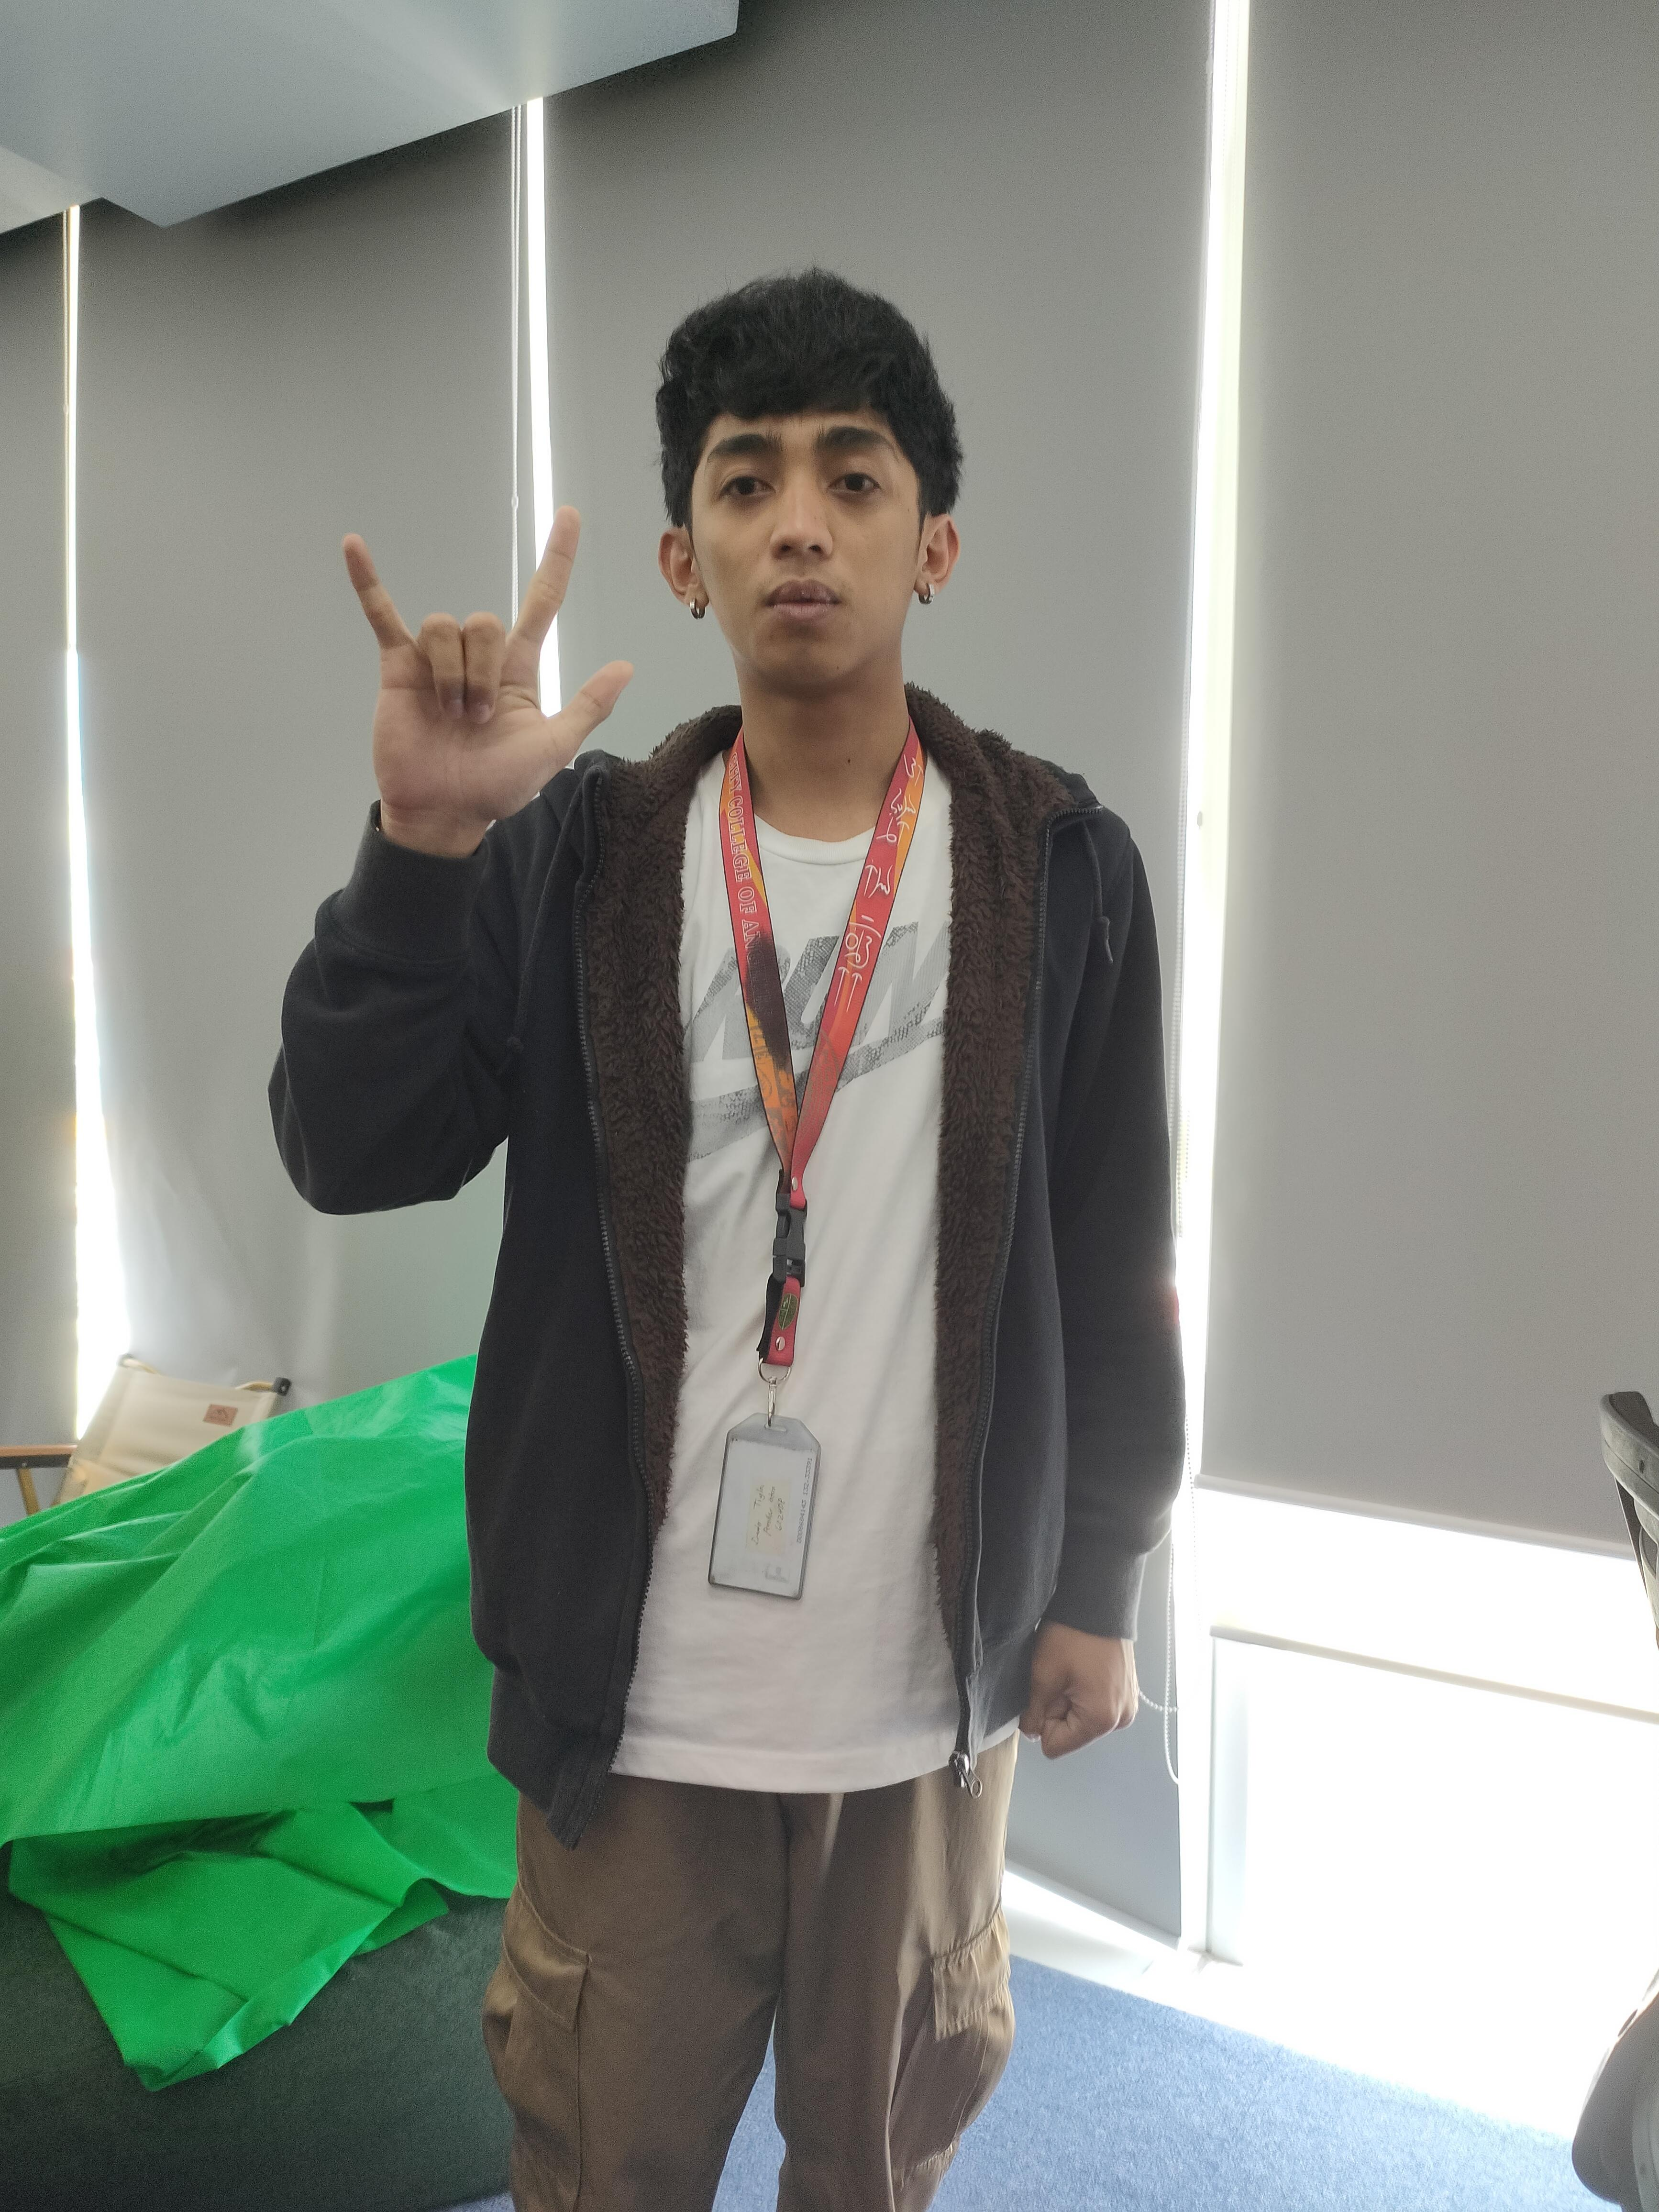Love_you: (345, 519, 653, 853)
